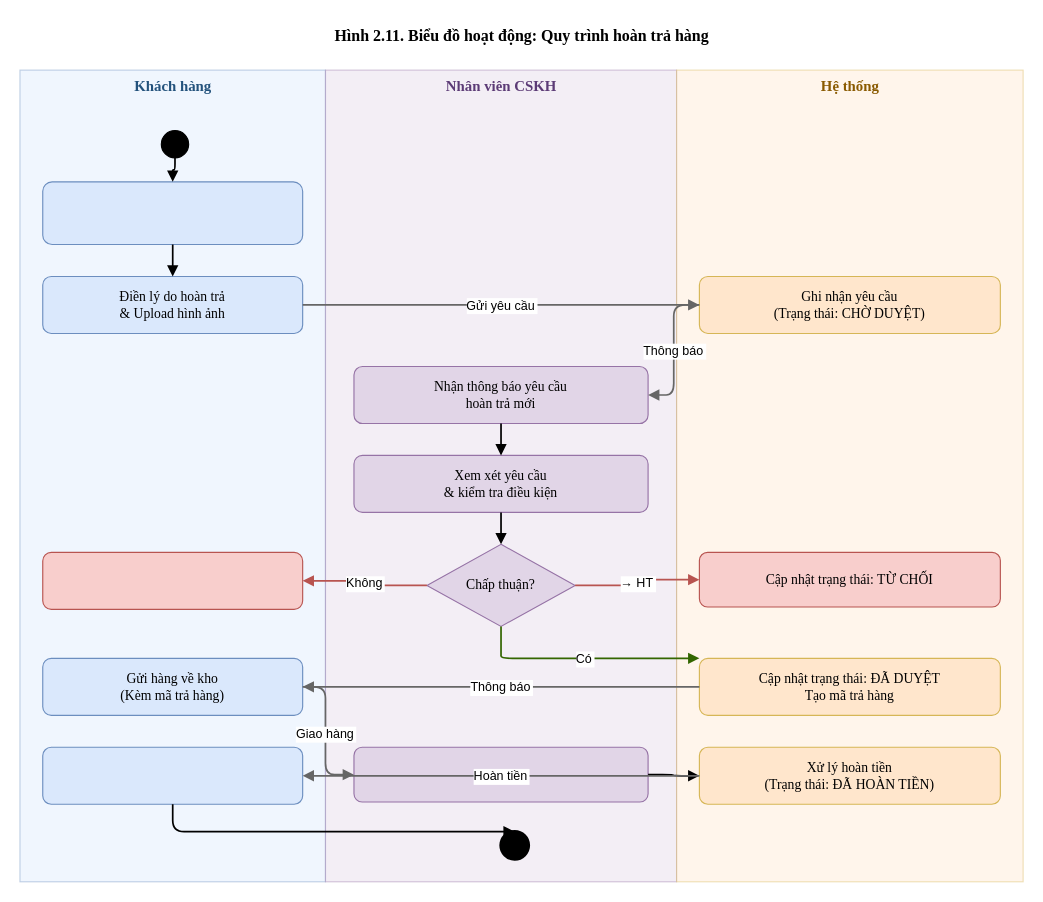
The diagram is 1043 pixels wide and 902 high, and some of its shapes have lost their labels. The shapes that lost their labels are listed below. From the top down, each one's centre as x and y in pixels, then its label:
the point at 172,213: Tạo yêu cầu hoàn trả (Trong vòng 7 ngày)
the point at 172,580: Gửi thông báo từ chối (Kèm lý do)
the point at 172,775: Nhận thông báo hoàn tiền
the point at 500,774: Kiểm tra hàng nhận được
